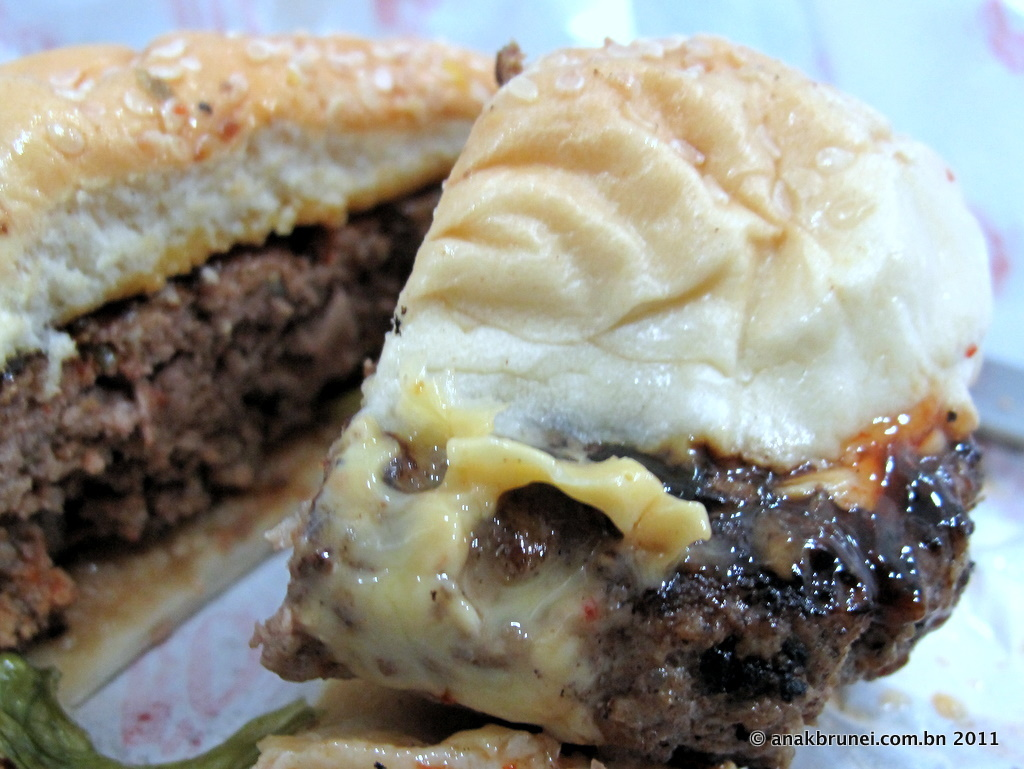Hamburger: (248, 33, 984, 768), (0, 28, 524, 648)
